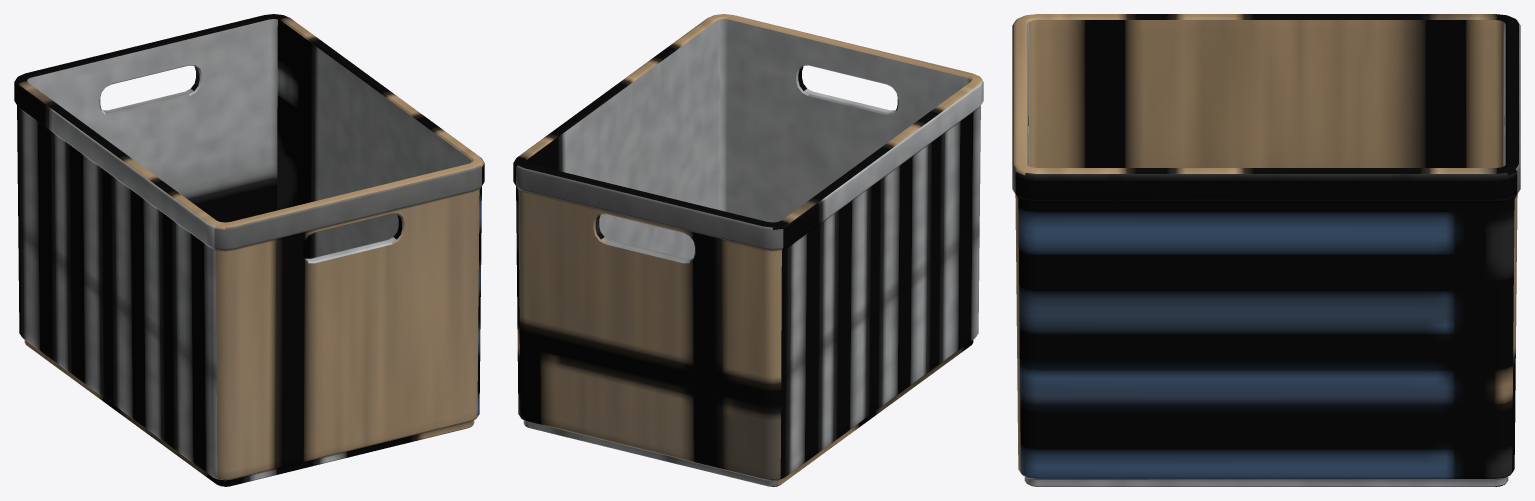
The model's file is SmallLoadCarrier_400x300x280.fbx.
The picture shows the model from 3 angles, left to right: view 1: azimuth 30°, elevation 25°; view 2: azimuth 150°, elevation 25°; view 3: azimuth 270°, elevation 25°; orthographic projection. The views are drawn at different scales.
Visible parts, largest first — view 1: SmallLoadCarrier_400x300x280_LOD0; view 2: SmallLoadCarrier_400x300x280_LOD0; view 3: SmallLoadCarrier_400x300x280_LOD0.
Boxes of the visible parts, <box> form: SmallLoadCarrier_400x300x280_LOD0: <box>14,14,484,486</box>; SmallLoadCarrier_400x300x280_LOD0: <box>513,14,983,486</box>; SmallLoadCarrier_400x300x280_LOD0: <box>1012,14,1520,486</box>.
Size of what is drawn, in the model's own units: 0.304 by 0.28 by 0.404.
